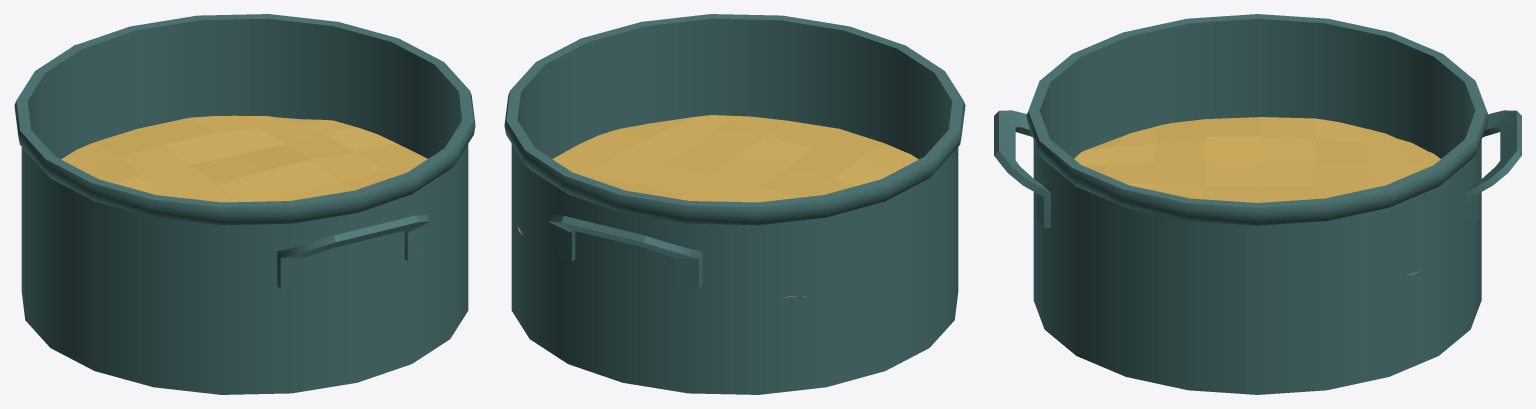
Rendered from JAM3.fbx.
3 renders of one model, left to right at view 1: azimuth 30°, elevation 25°; view 2: azimuth 150°, elevation 25°; view 3: azimuth 270°, elevation 25°, orthographic.
Visible parts, largest first — view 1: Cylinder001.001, Plane; view 2: Cylinder001.001, Plane; view 3: Cylinder001.001, Plane.
Boxes of the visible parts, x1,y1,x2,y2 form: Cylinder001.001: [14, 14, 475, 394]; Plane: [61, 115, 427, 202]; Cylinder001.001: [504, 14, 965, 394]; Plane: [517, 115, 918, 297]; Cylinder001.001: [994, 14, 1521, 394]; Plane: [1074, 117, 1440, 275].
Size of the model in its own units: 186 by 213 by 84.17.
